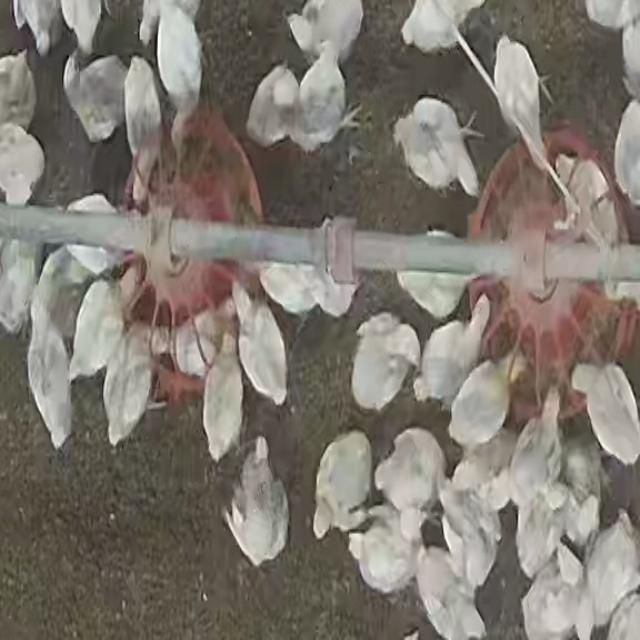chicken: (26, 259, 78, 450), (418, 296, 494, 413), (222, 440, 288, 568), (394, 105, 480, 199), (496, 41, 554, 169), (233, 280, 289, 410), (155, 5, 201, 161), (505, 396, 566, 511), (436, 482, 499, 592), (350, 314, 419, 414), (299, 40, 360, 152), (415, 545, 486, 640), (103, 315, 153, 449), (574, 363, 639, 465), (312, 429, 374, 535), (556, 153, 621, 253), (582, 516, 638, 632), (61, 50, 127, 145), (374, 425, 441, 516), (67, 275, 122, 383), (521, 552, 588, 638), (349, 514, 417, 596), (202, 334, 245, 462), (124, 59, 161, 207), (63, 193, 125, 276), (513, 484, 565, 578), (247, 68, 299, 148), (0, 234, 40, 334), (291, 0, 360, 57), (0, 124, 45, 204), (399, 268, 466, 320), (400, 1, 460, 54), (0, 49, 37, 134), (13, 0, 63, 58), (614, 99, 640, 207), (59, 1, 105, 61)
